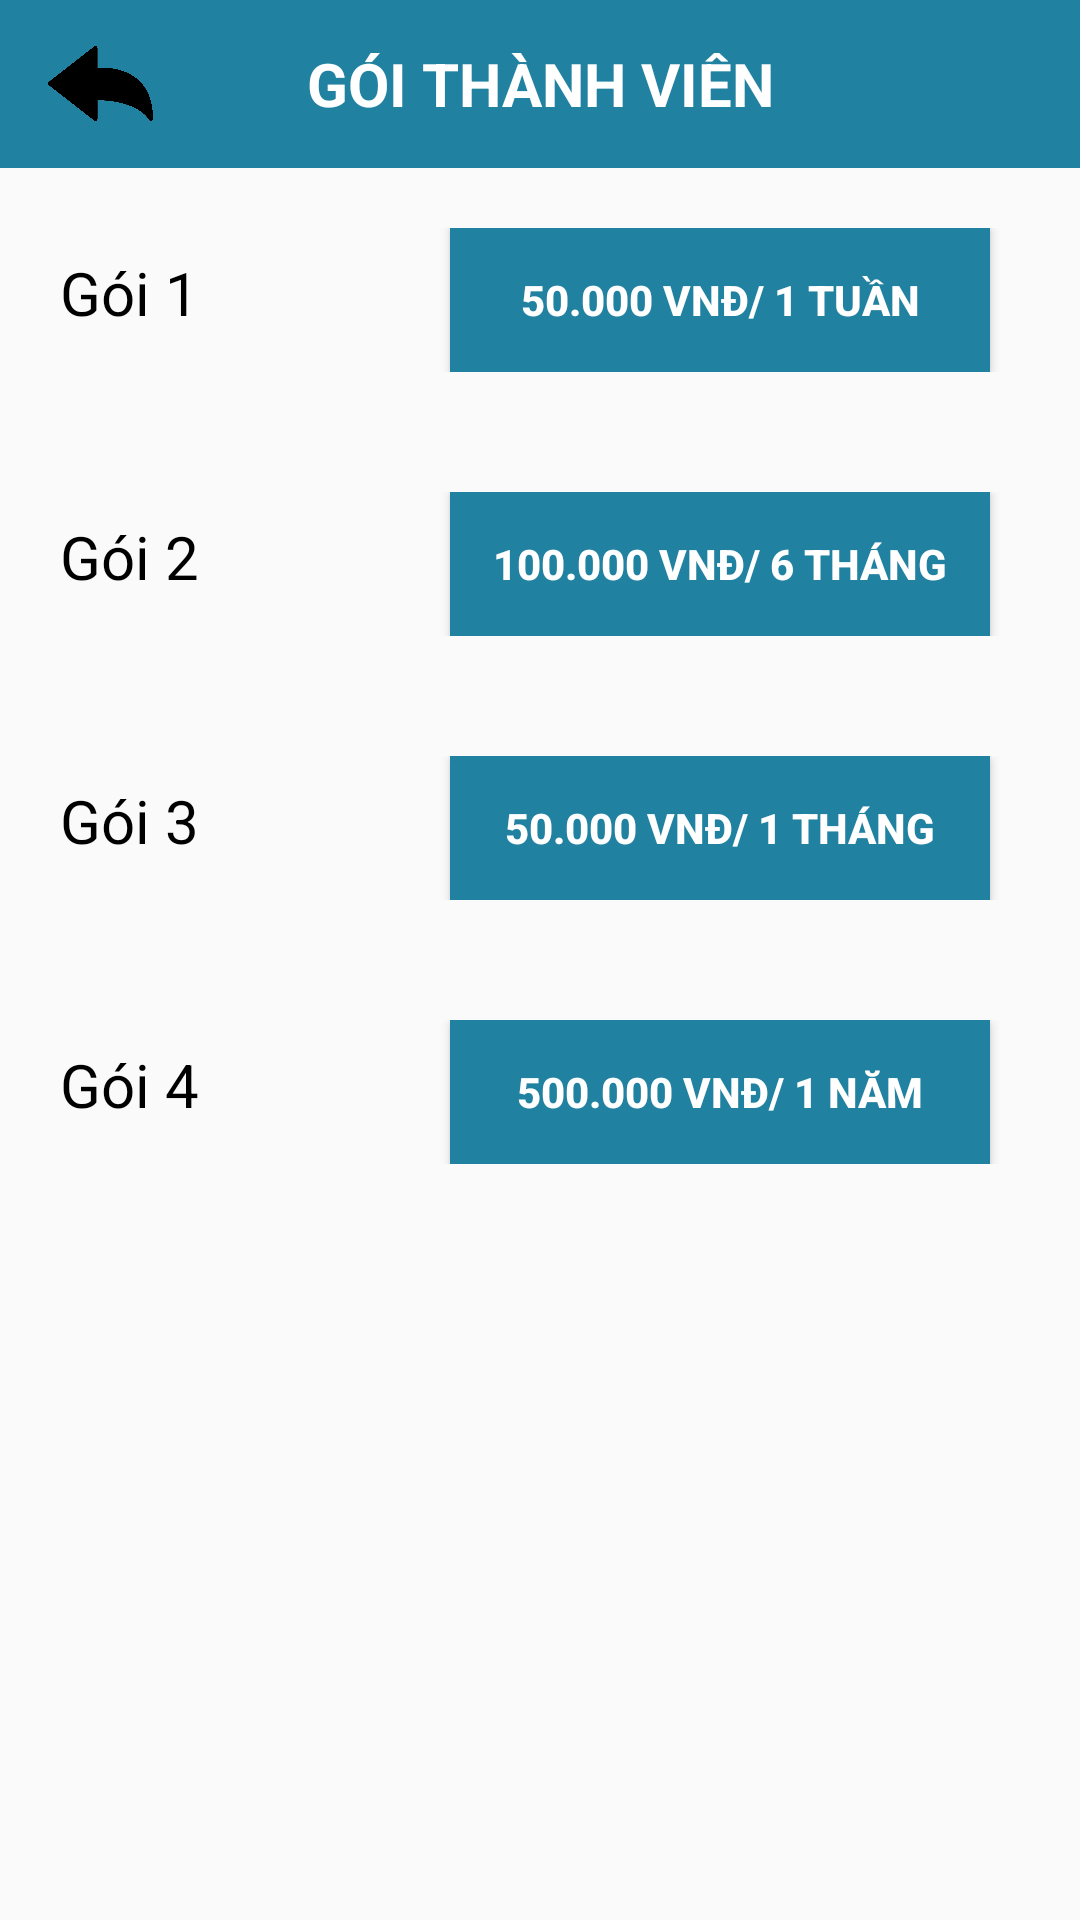

Where to tap for icons on this 1080px×1920px app screen, as (x=x, y=y):
quaylai: (x=100, y=83)
